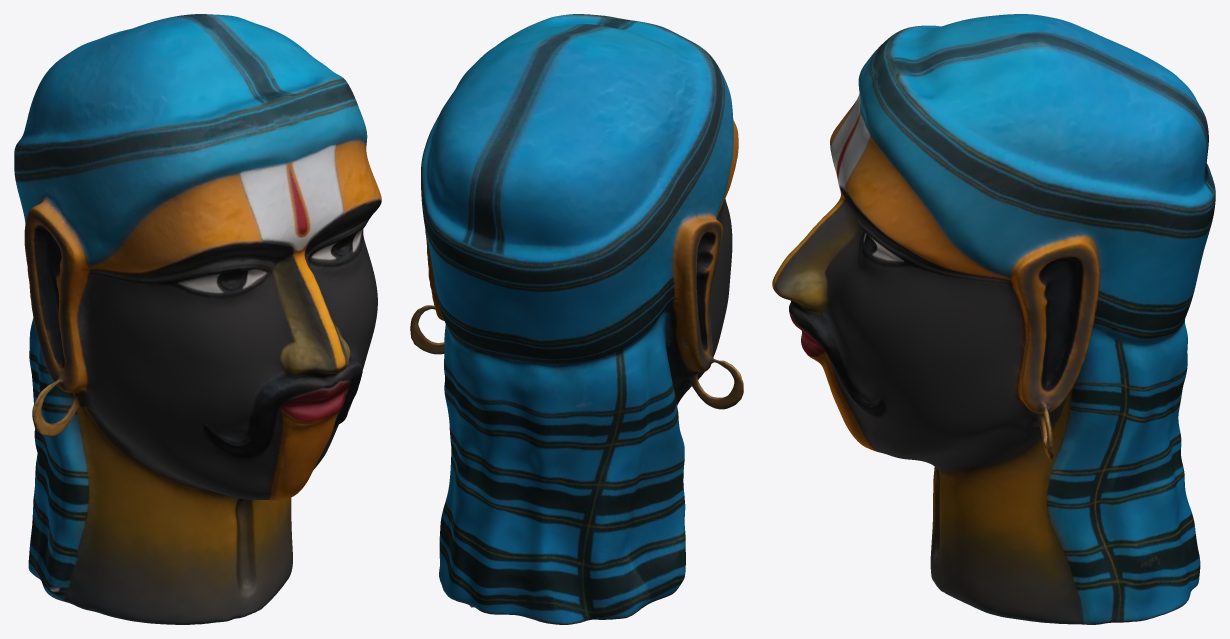
Rendered from thota-male-head-with-blue-turban.glb.
3 renders of one model, left to right at view 1: azimuth 30°, elevation 25°; view 2: azimuth 150°, elevation 25°; view 3: azimuth 270°, elevation 25°, orthographic. The views are drawn at different scales.
Parts seen in each view (by area): view 1: Drone - 07; view 2: Drone - 07; view 3: Drone - 07.
Part boxes in pixels (bbox=[...]): Drone - 07: bbox=[14, 14, 381, 624]; Drone - 07: bbox=[410, 14, 743, 624]; Drone - 07: bbox=[772, 14, 1215, 624].
Bounding box in the file's own units: 4.83 × 7.64 × 5.58.
Materials: 1 (1 with a texture image).
